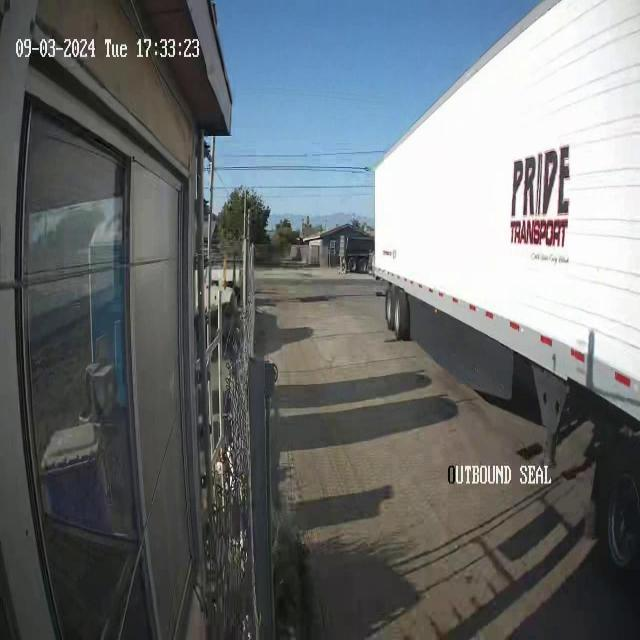TRUCK_CONTAINER: (372, 1, 639, 571)
